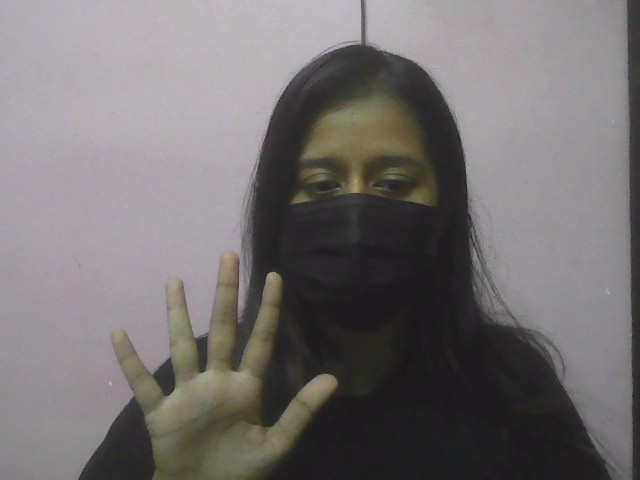Hello: (99, 244, 344, 479)
